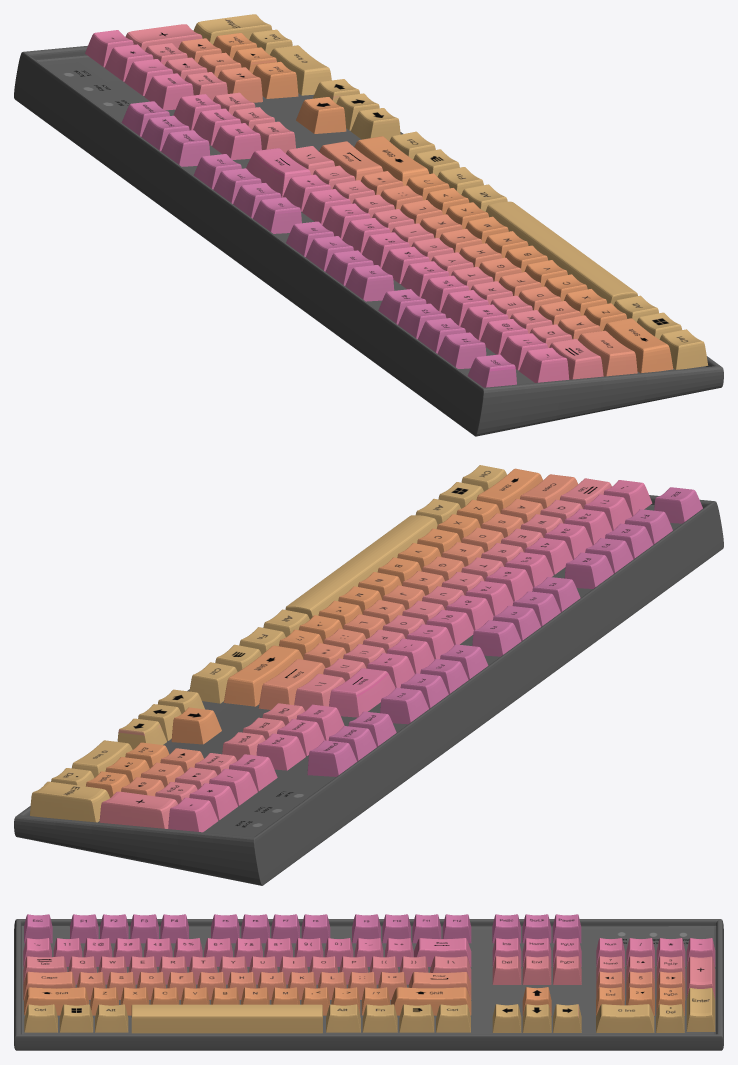
The model's file is full_size_keyboard_yellow_purple_grad.glb.
The picture shows the model from 3 angles, top to bottom: view 1: azimuth 30°, elevation 25°; view 2: azimuth 150°, elevation 25°; view 3: azimuth 270°, elevation 25°; orthographic projection. The views are drawn at different scales.
Parts seen in each view (by area): view 1: Keyboard Body; view 2: Keyboard Body; view 3: Keyboard Body.
Boxes of the visible parts, bbox=[...] form: Keyboard Body: bbox=[14, 14, 723, 436]; Keyboard Body: bbox=[14, 465, 723, 885]; Keyboard Body: bbox=[14, 914, 723, 1050].
Bounding box in the file's own units: 5.55 × 1.5 × 18.04.
Materials: 2 (1 with a texture image).
